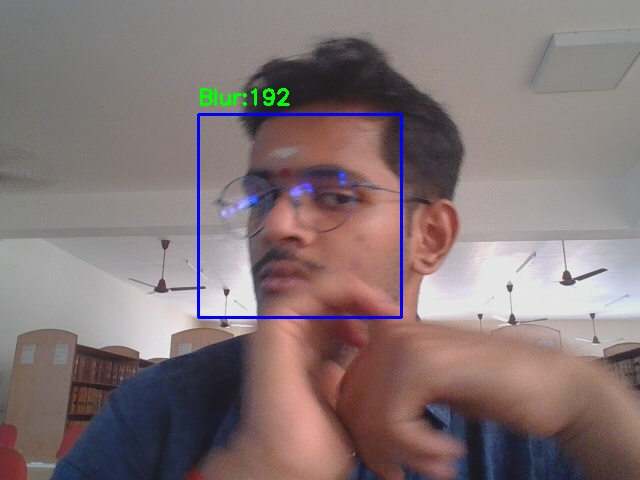real: (198, 114, 401, 317)
